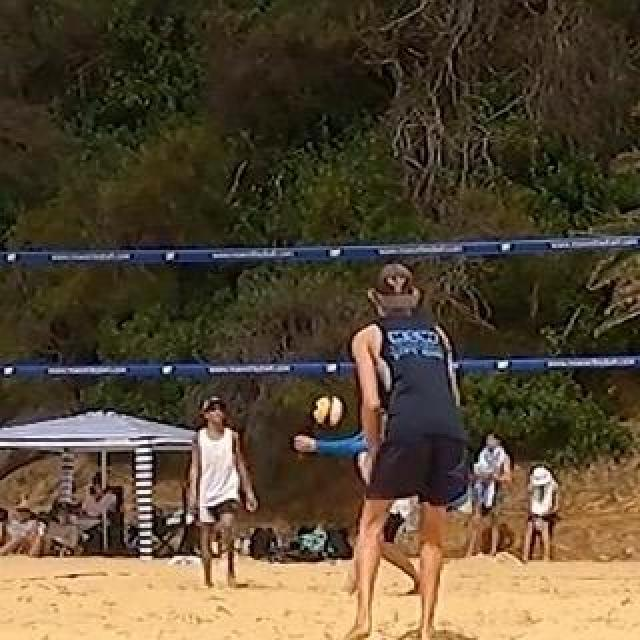volleyball: (317, 399, 347, 429)
